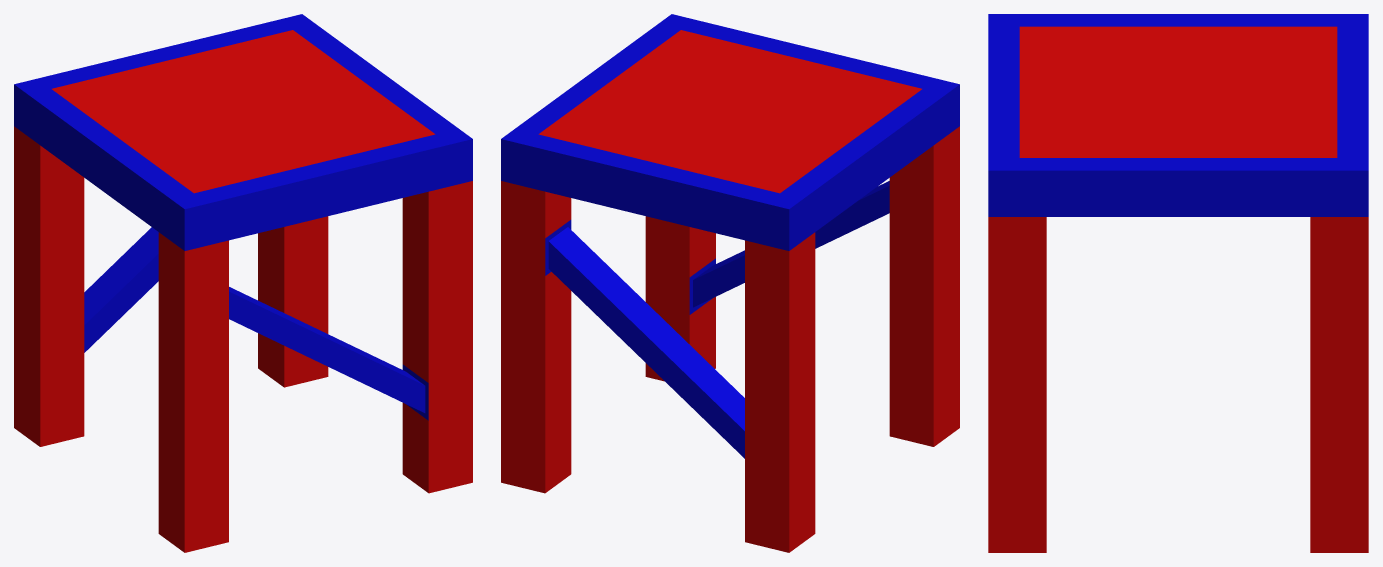
File: PlateformeSol.FBX
3 renders of one model, left to right at view 1: azimuth 30°, elevation 25°; view 2: azimuth 150°, elevation 25°; view 3: azimuth 270°, elevation 25°, orthographic. The views are drawn at different scales.
Visible parts, largest first — view 1: PlateformeSol01; view 2: PlateformeSol01; view 3: PlateformeSol01.
Part boxes in pixels (box(x1,y1,x2,y2)): PlateformeSol01: box(14, 14, 472, 552); PlateformeSol01: box(501, 14, 959, 552); PlateformeSol01: box(988, 14, 1368, 552).
Size of the model in its own units: 146 by 166 by 150.
